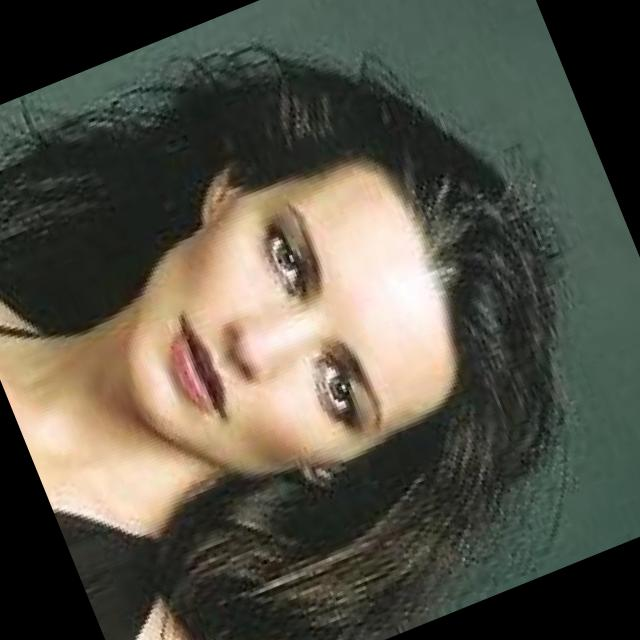bareface: (76, 125, 506, 540)
